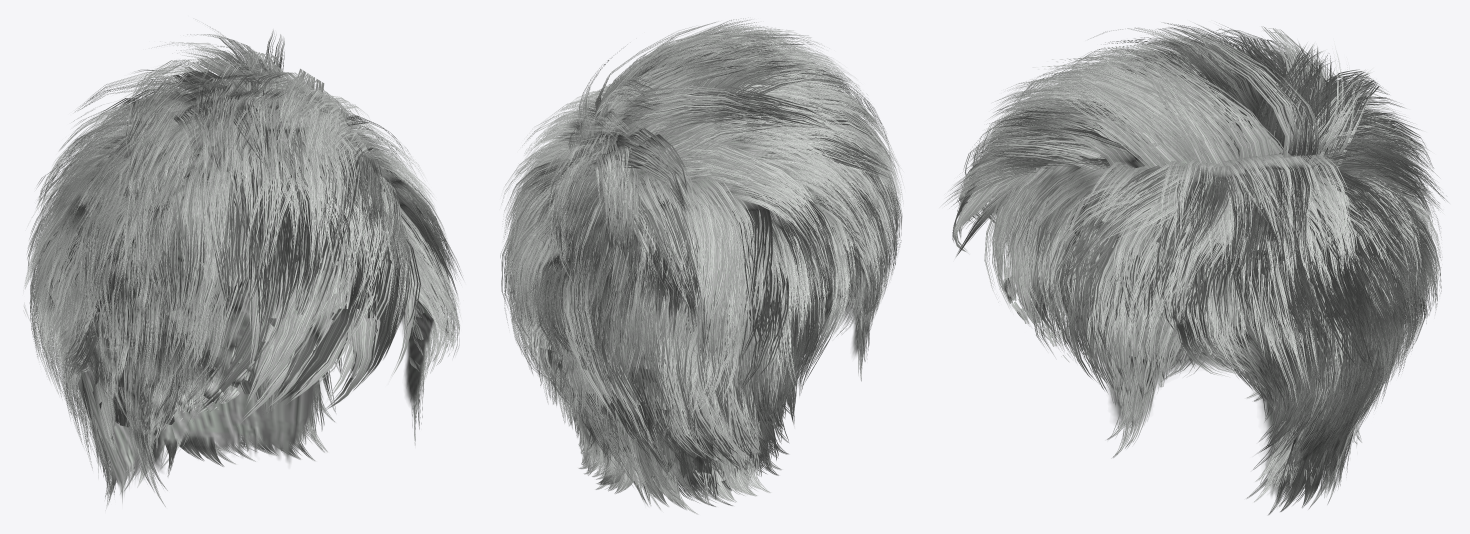
File: hair002.glb
3 views of the same model, side by side, from view 1: azimuth 30°, elevation 25°; view 2: azimuth 150°, elevation 25°; view 3: azimuth 270°, elevation 25° (orthographic). The views are drawn at different scales.
Parts seen in each view (by area): view 1: hair, scalp; view 2: hair, scalp; view 3: hair, scalp.
Boxes of the visible parts, x1=… form: hair: x1=23, y1=18, x2=463, y2=508; scalp: x1=62, y1=117, x2=434, y2=502; hair: x1=500, y1=18, x2=903, y2=514; scalp: x1=565, y1=116, x2=878, y2=494; hair: x1=940, y1=21, x2=1448, y2=515; scalp: x1=989, y1=121, x2=1395, y2=498.
Bounding box in the file's own units: 0.1484 × 0.1954 × 0.1985.
Materials: 2 (2 with a texture image).
